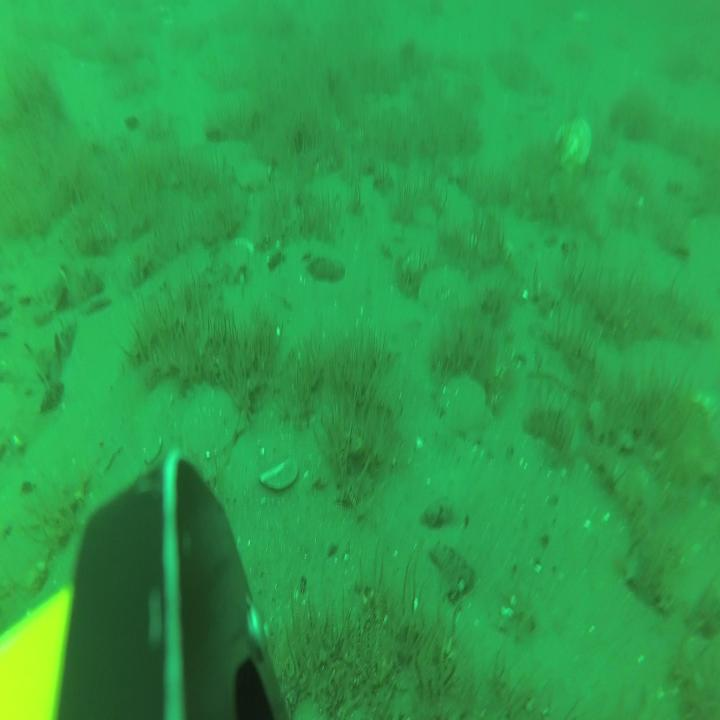scallop: (182, 387, 238, 484), (442, 374, 487, 439), (422, 264, 470, 316), (553, 116, 592, 173), (216, 135, 255, 168), (237, 159, 270, 189)
